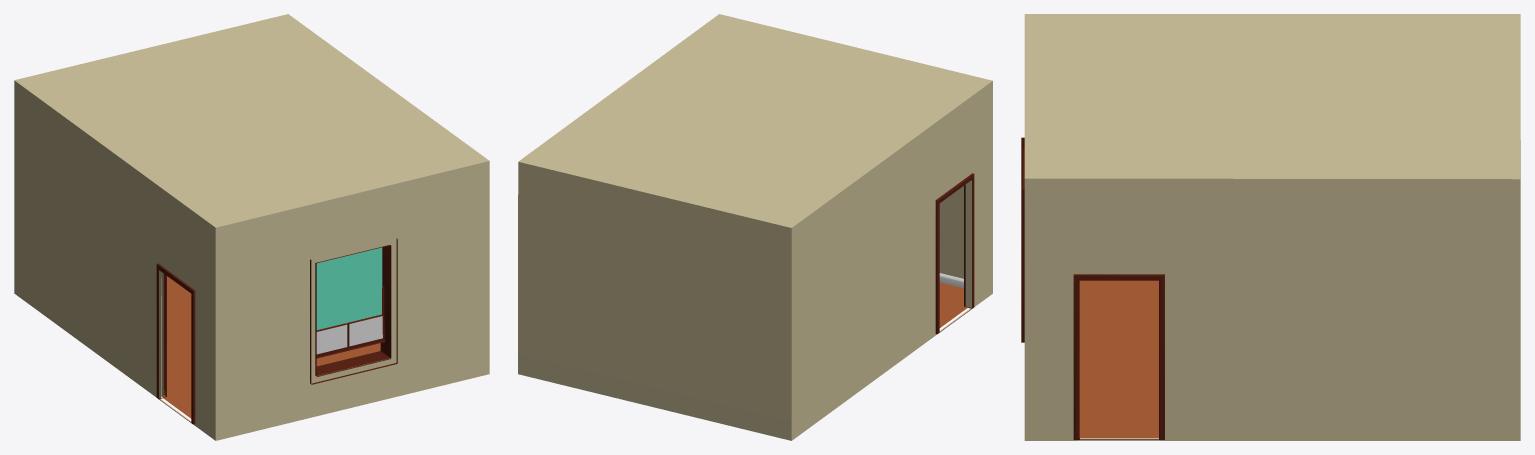
The model's file is Oda.fbx.
The picture shows the model from 3 angles, left to right: view 1: azimuth 30°, elevation 25°; view 2: azimuth 150°, elevation 25°; view 3: azimuth 270°, elevation 25°; orthographic projection. The views are drawn at different scales.
Visible parts, largest first — view 1: oda; view 2: oda; view 3: oda.
Part boxes in pixels (x1,y1,x2,y2): oda: (14, 14, 489, 440); oda: (518, 14, 992, 440); oda: (1021, 14, 1520, 440).
Size of the model in its own units: 695 by 510 by 879.
